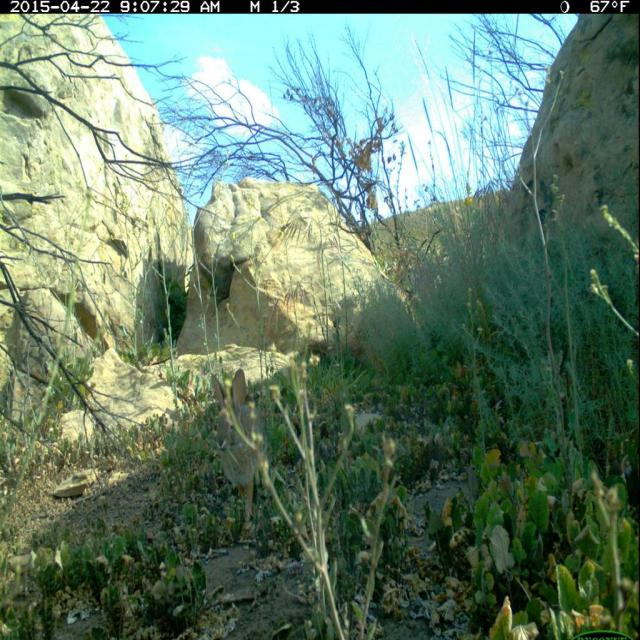rabbit: (204, 364, 278, 534)
